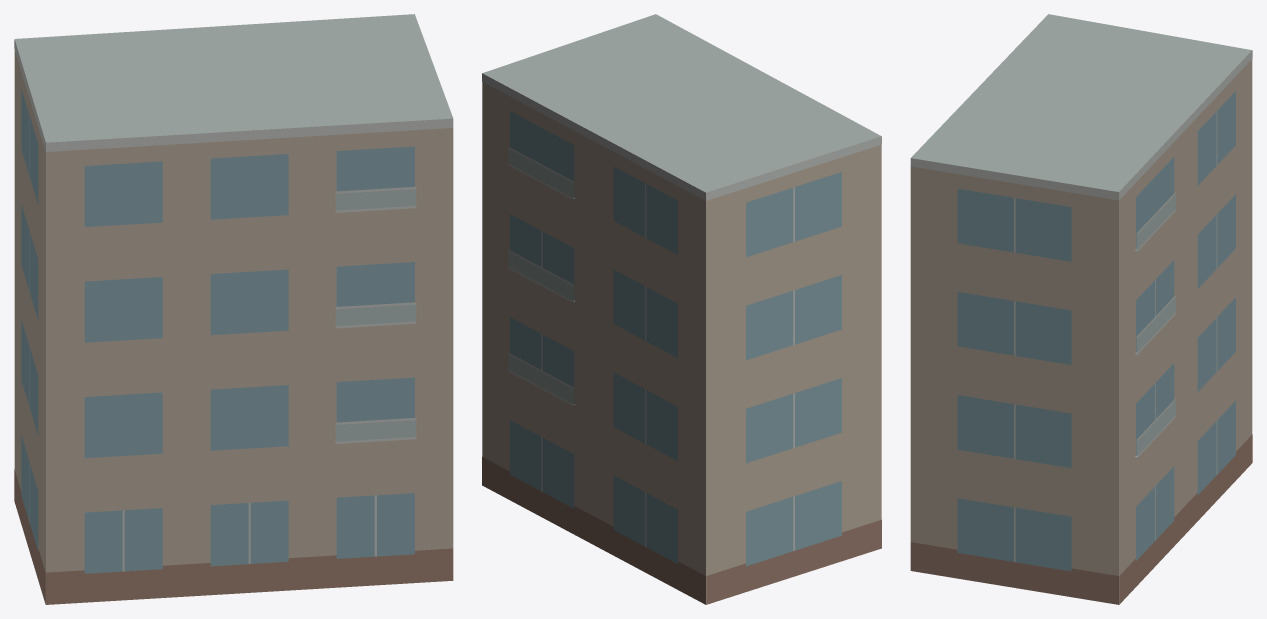
File: survey-upis-32734766.glb
The picture shows the model from 3 angles, left to right: view 1: azimuth 30°, elevation 25°; view 2: azimuth 150°, elevation 25°; view 3: azimuth 270°, elevation 25°; orthographic projection. The views are drawn at different scales.
Parts seen in each view (by area): view 1: survey-upis-32734766.tmp; view 2: survey-upis-32734766.tmp; view 3: survey-upis-32734766.tmp.
Boxes of the visible parts, <box> form: survey-upis-32734766.tmp: <box>14,14,453,604</box>; survey-upis-32734766.tmp: <box>482,14,881,604</box>; survey-upis-32734766.tmp: <box>910,14,1252,604</box>.
Bounding box in the file's own units: 11.2 × 12.1 × 9.09.
